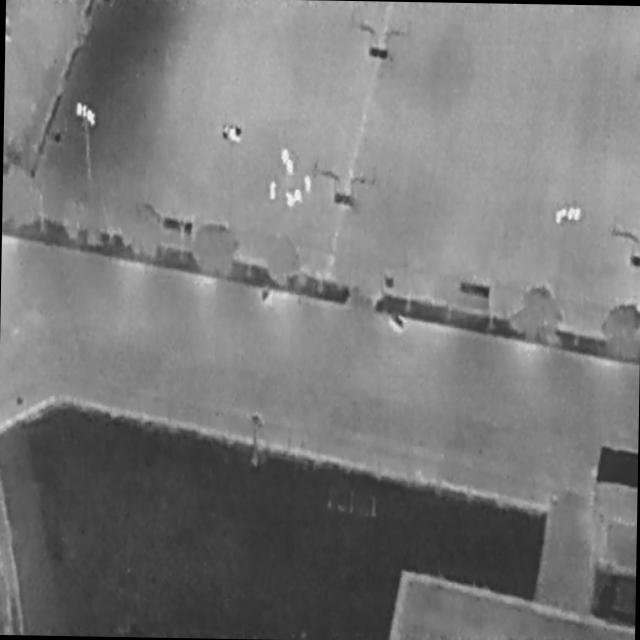person: (305, 175, 313, 195), (271, 180, 278, 201), (282, 149, 290, 167), (294, 188, 303, 204), (285, 192, 294, 208), (287, 161, 295, 177)
